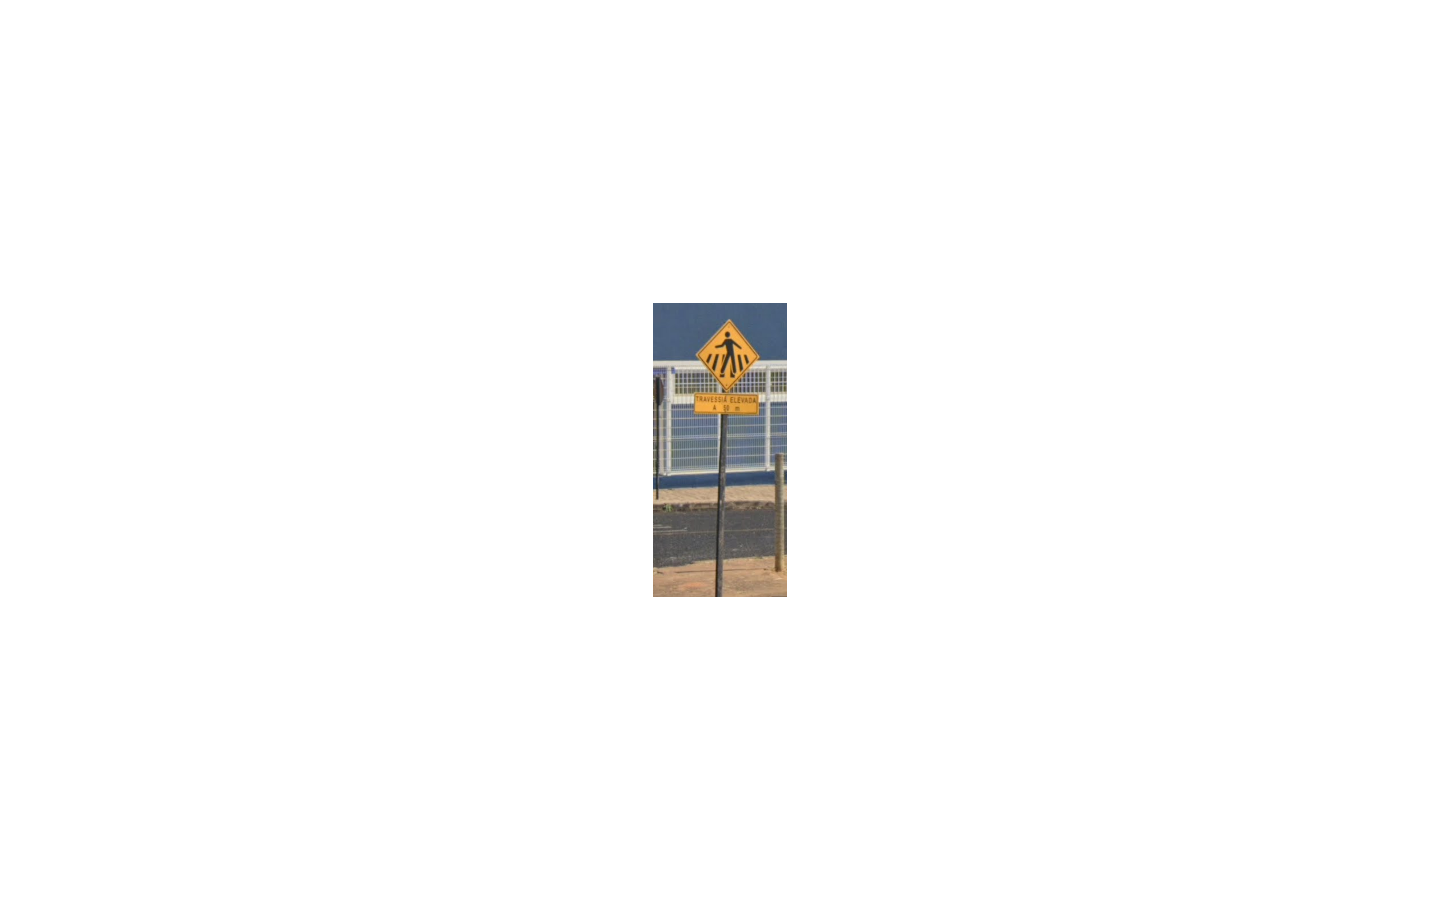t50m: (694, 320, 759, 414)
